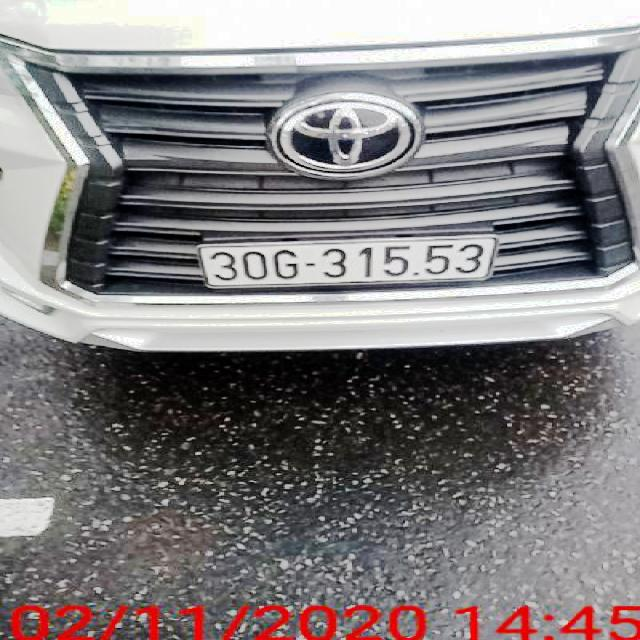license_plate: (200, 237, 496, 287)
